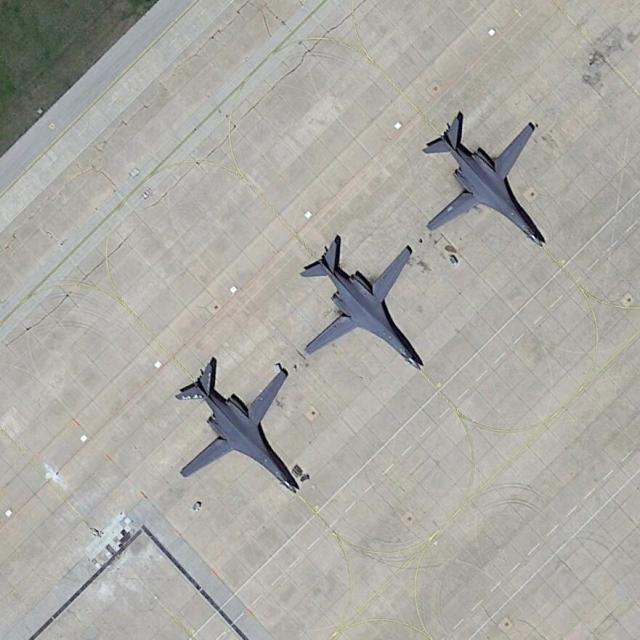fighter jet: (295, 234, 458, 355), (169, 354, 301, 499), (422, 112, 554, 238), (295, 257, 296, 258)
